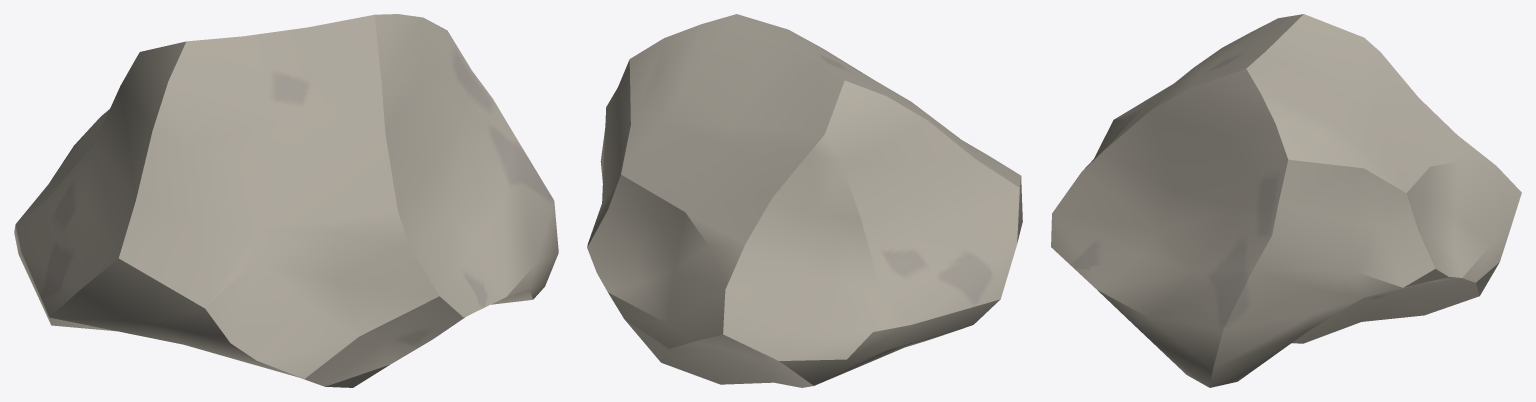
Rendered from Rock 3.fbx.
3 views of the same model, side by side, from view 1: azimuth 30°, elevation 25°; view 2: azimuth 150°, elevation 25°; view 3: azimuth 270°, elevation 25° (orthographic). The views are drawn at different scales.
Visible parts, largest first — view 1: Rock 3; view 2: Rock 3; view 3: Rock 3.
Boxes of the visible parts, <box> form: Rock 3: <box>14,14,558,387</box>; Rock 3: <box>587,14,1022,387</box>; Rock 3: <box>1051,14,1521,387</box>.
Bounding box in the file's own units: 258 × 175 × 252.
